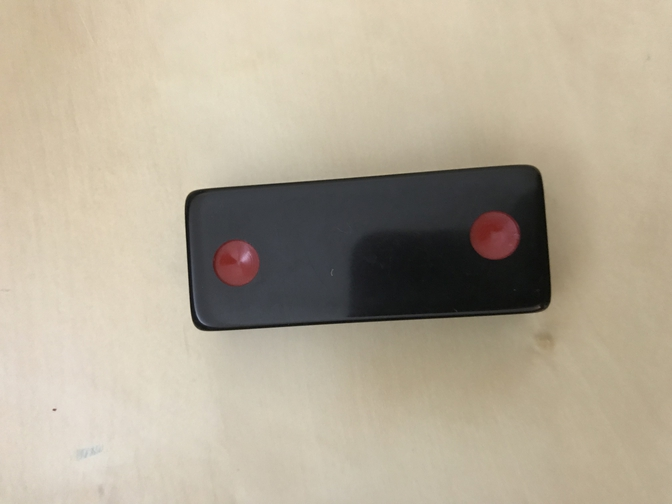earth: (184, 164, 551, 332)
